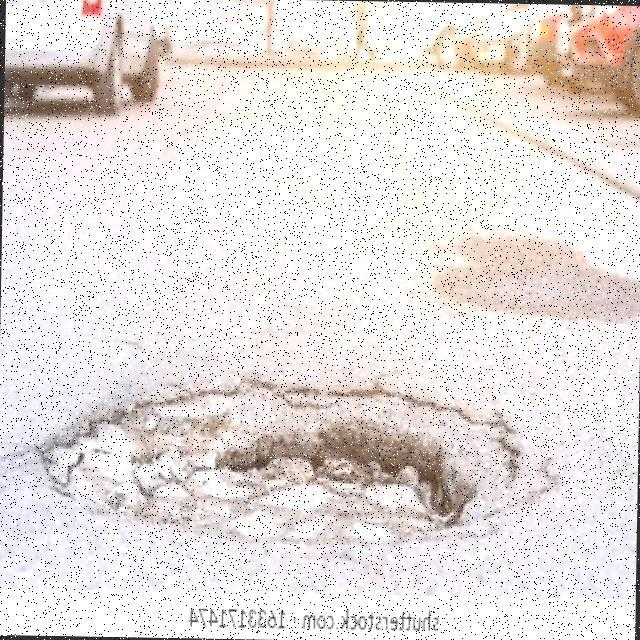Pothole: (38, 382, 522, 540)
